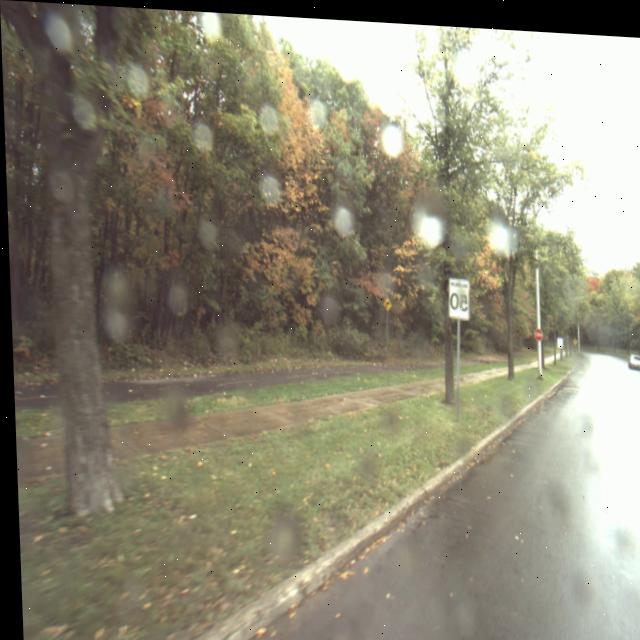car: (625, 347, 640, 371)
